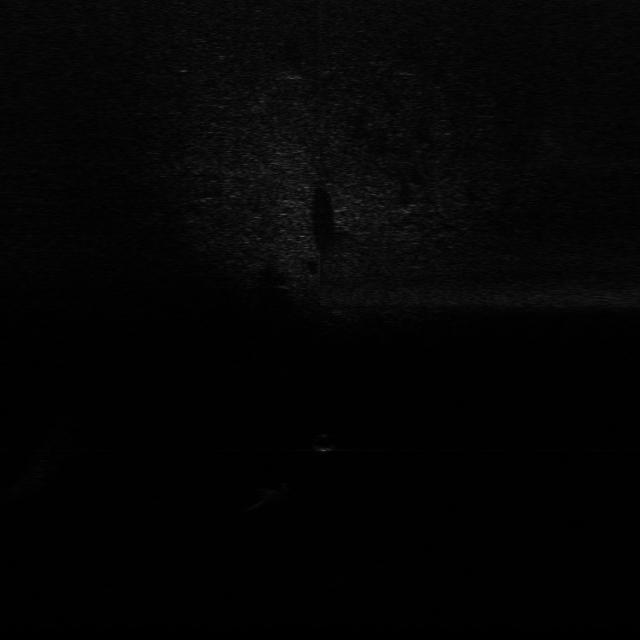ball: (310, 429, 340, 453)
square cage: (258, 480, 296, 510)
